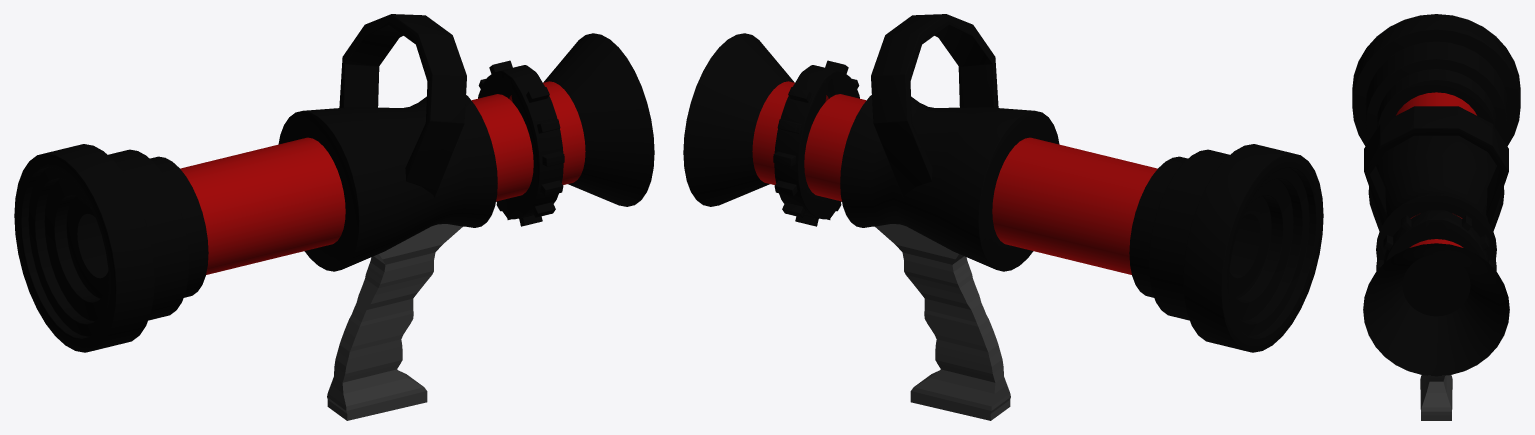
The model's file is Firehose.fbx.
3 views of the same model, side by side, from view 1: azimuth 30°, elevation 25°; view 2: azimuth 150°, elevation 25°; view 3: azimuth 270°, elevation 25° (orthographic). The views are drawn at different scales.
Visible parts, largest first — view 1: Cylinder, Cylinder.001, Cylinder.002; view 2: Cylinder, Cylinder.001, Cylinder.002; view 3: Cylinder, Cylinder.002, Cylinder.001.
Boxes of the visible parts, x1,y1,x2,y2 form: Cylinder: (14,14,654,352); Cylinder.001: (180,81,585,274); Cylinder.002: (327,224,462,420); Cylinder: (683,14,1323,352); Cylinder.001: (752,81,1157,274); Cylinder.002: (875,224,1010,420); Cylinder: (1352,14,1520,376); Cylinder.002: (1420,375,1452,420); Cylinder.001: (1396,92,1476,247).
Size of the model in its own units: 436 by 286 by 141.
